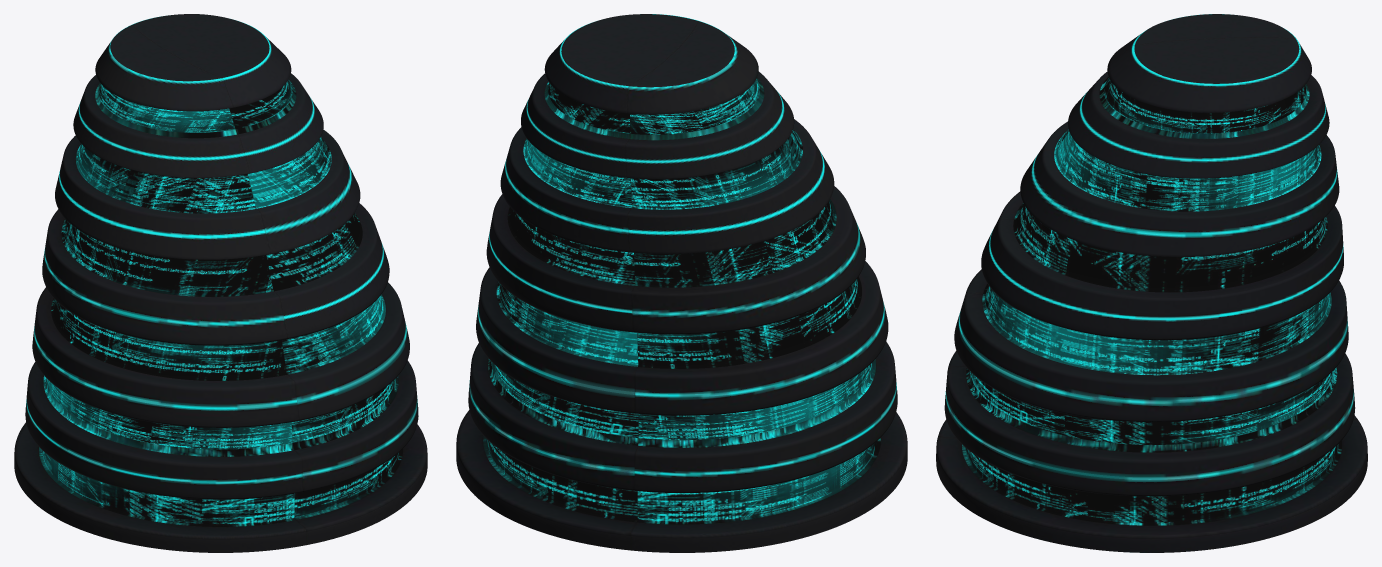
Rendered from Silos_a.gltf.
The picture shows the model from 3 angles, left to right: view 1: azimuth 30°, elevation 25°; view 2: azimuth 150°, elevation 25°; view 3: azimuth 270°, elevation 25°; orthographic projection. The views are drawn at different scales.
Visible parts, largest first — view 1: Sphere; view 2: Sphere; view 3: Sphere.
Part boxes in pixels (bbox=[...]): Sphere: bbox=[14, 14, 427, 552]; Sphere: bbox=[456, 14, 907, 552]; Sphere: bbox=[936, 14, 1367, 552].
Bounding box in the file's own units: 69.27 × 73.11 × 69.27.
Materials: 3 (3 with a texture image).
